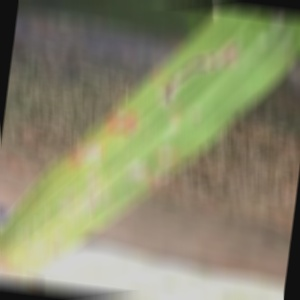Brown_Spot: (158, 33, 239, 102), (65, 136, 108, 168), (118, 157, 161, 186), (103, 104, 137, 137), (148, 139, 177, 170)
